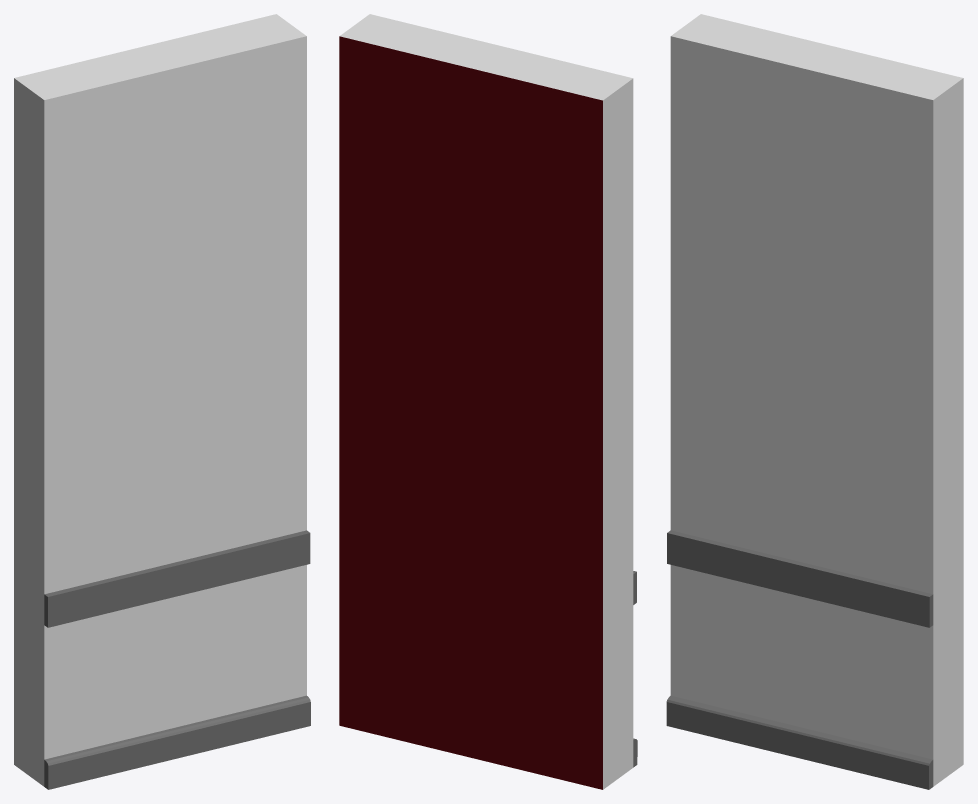
The model's file is WandMitLeiste1_3.glb.
3 views of the same model, side by side, from view 1: azimuth 30°, elevation 25°; view 2: azimuth 150°, elevation 25°; view 3: azimuth 330°, elevation 25° (orthographic).
Parts seen in each view (by area): view 1: Wand 1 * 4; view 2: Wand 1 * 4; view 3: Wand 1 * 4.
Boxes of the visible parts, box(x1,y1,x2,y2) form: Wand 1 * 4: box(14, 14, 310, 789); Wand 1 * 4: box(339, 14, 637, 789); Wand 1 * 4: box(666, 14, 963, 789).
Size of the model in its own units: 1 by 2.5 by 0.2269.
